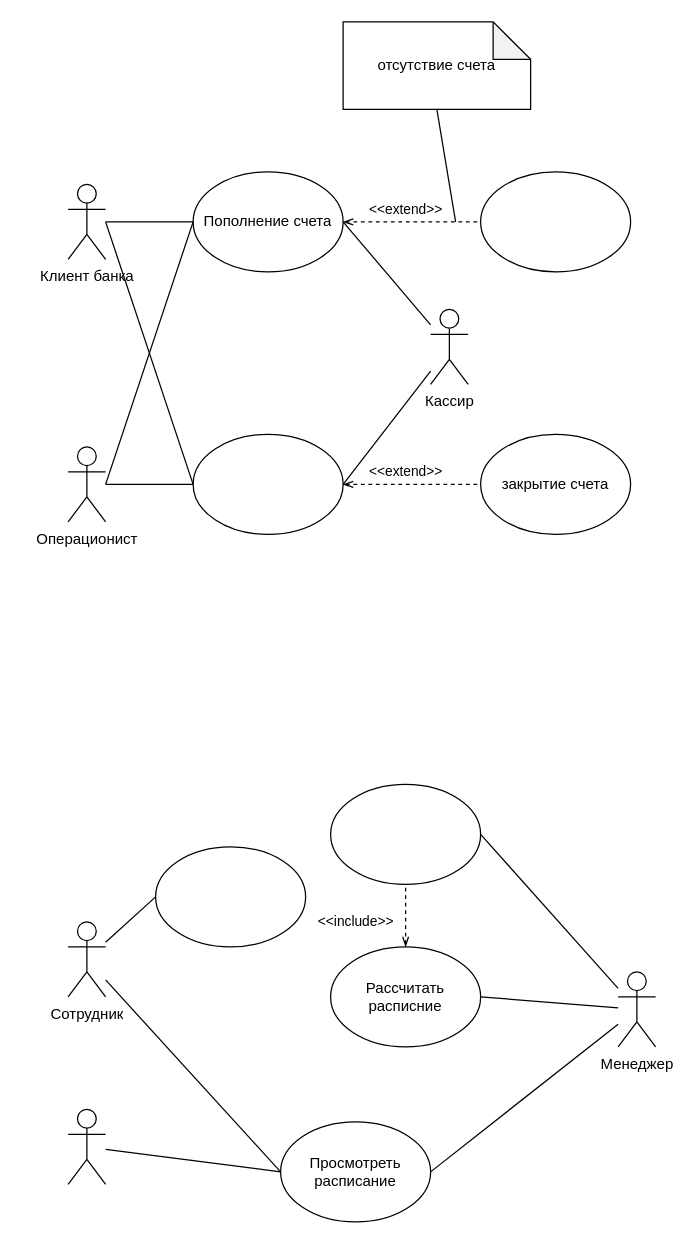
This 695x1244 diagram has some shape labels left out. The shapes that lost their labels are listed below. From the top down, each one's box as (x1, y1, x2, y2) in pixels, then its label:
(479, 171, 631, 272): открытие счета
(192, 433, 343, 534): снятие денег со счета
(329, 783, 481, 884): Добавить пьесу
(154, 846, 306, 947): Внести предпочтения
(67, 1108, 106, 1184): Посетитель театра
